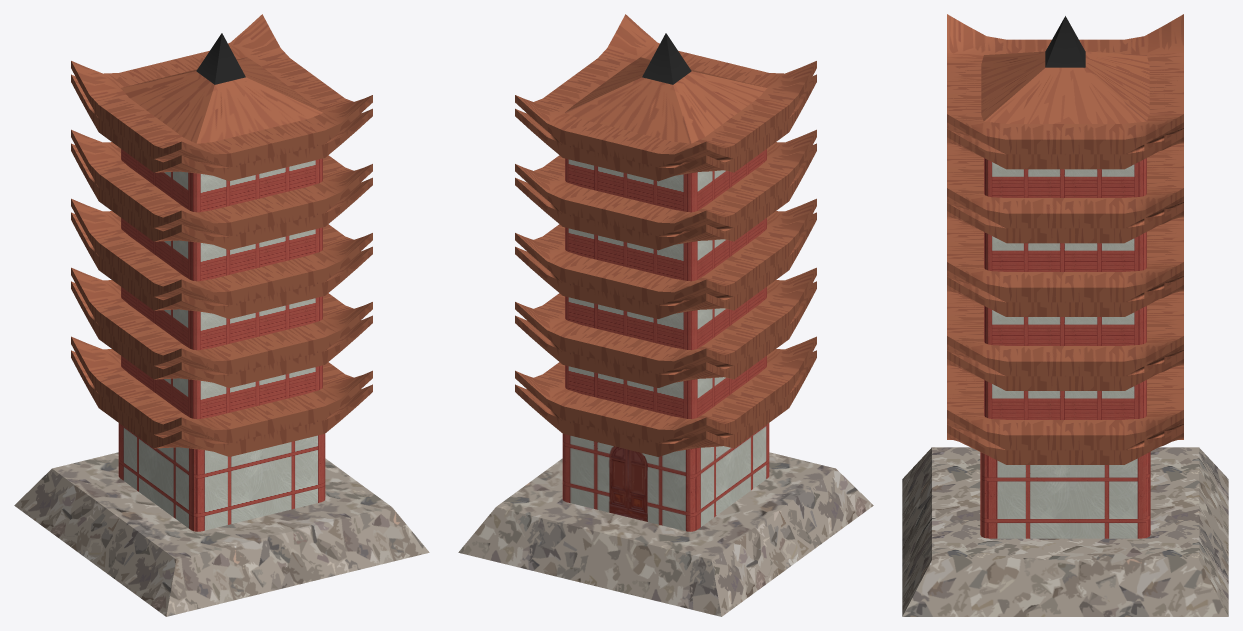
The model's file is pagodaMesh.fbx.
The picture shows the model from 3 angles, left to right: view 1: azimuth 30°, elevation 25°; view 2: azimuth 150°, elevation 25°; view 3: azimuth 270°, elevation 25°; orthographic projection. The views are drawn at different scales.
Parts seen in each view (by area): view 1: pagodaMesh; view 2: pagodaMesh; view 3: pagodaMesh.
Boxes of the visible parts, x1=… form: pagodaMesh: x1=14, y1=14, x2=429, y2=616; pagodaMesh: x1=458, y1=14, x2=873, y2=616; pagodaMesh: x1=902, y1=14, x2=1228, y2=616.
Bounding box in the file's own units: 2000 × 3600 × 2000.
Materials: 3 (3 with a texture image).
